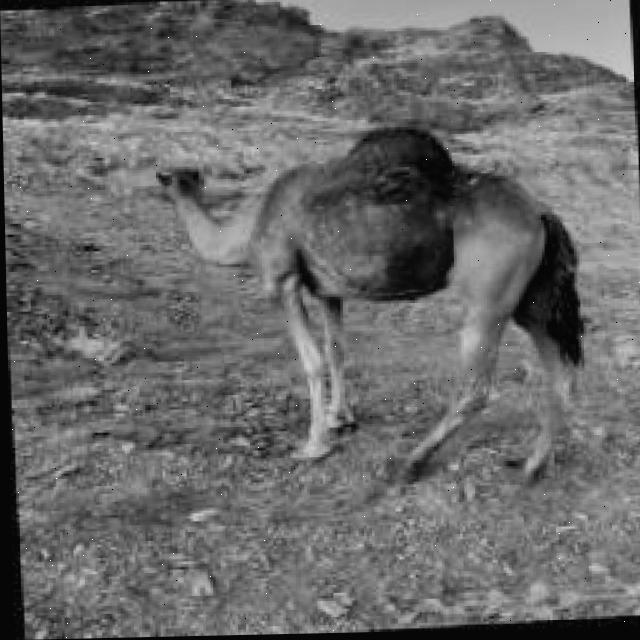Camel: (152, 118, 590, 493)
